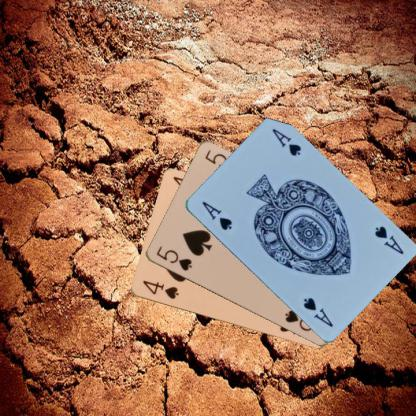4s: (140, 278, 180, 300)
5s: (153, 243, 193, 272)
As: (199, 198, 233, 232), (372, 224, 404, 256)
